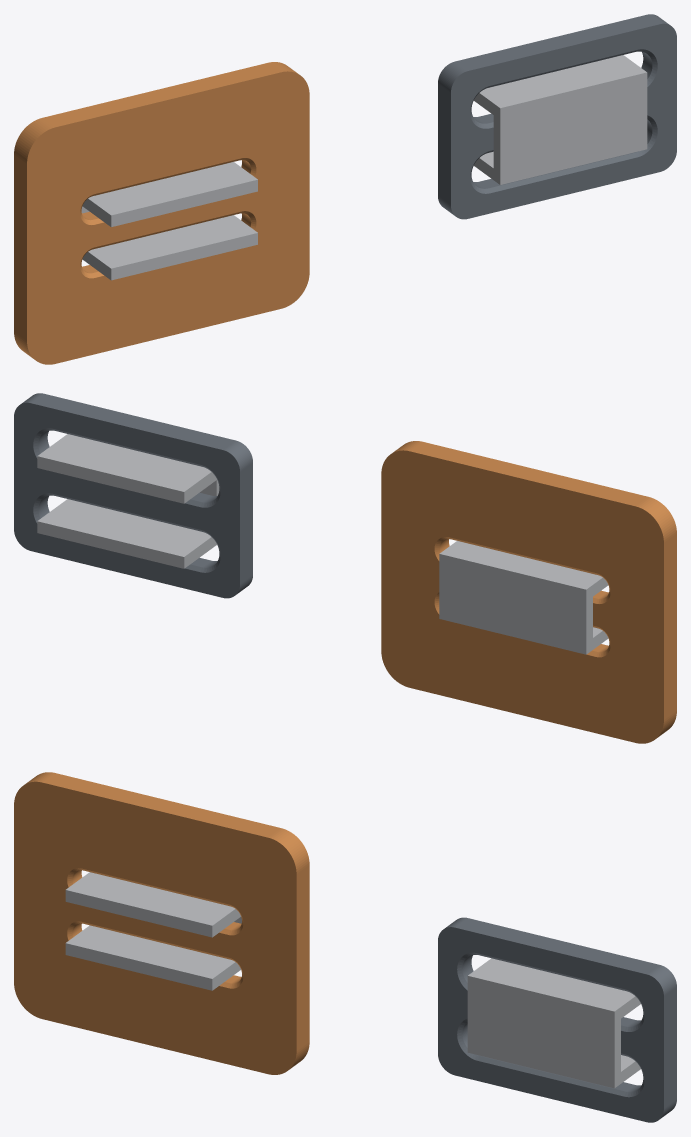
3 views of the same model, one above another, from view 1: azimuth 30°, elevation 25°; view 2: azimuth 150°, elevation 25°; view 3: azimuth 330°, elevation 25° (orthographic).
Parts seen in each view (by area): view 1: plaque, boucle, sangle_boucle, sangle_plaque; view 2: plaque, boucle, sangle_boucle, sangle_plaque; view 3: plaque, boucle, sangle_boucle, sangle_plaque.
Part boxes in pixels (bbox=[...]): plaque: bbox=[14, 62, 309, 364]; boucle: bbox=[438, 14, 676, 219]; sangle_boucle: bbox=[474, 55, 647, 184]; sangle_plaque: bbox=[81, 162, 257, 280]; plaque: bbox=[381, 441, 676, 743]; boucle: bbox=[14, 393, 252, 598]; sangle_boucle: bbox=[37, 434, 219, 568]; sangle_plaque: bbox=[439, 541, 608, 654]; plaque: bbox=[14, 772, 309, 1074]; boucle: bbox=[438, 917, 676, 1122]; sangle_boucle: bbox=[467, 958, 640, 1088]; sangle_plaque: bbox=[65, 872, 241, 990].
Bounding box in the file's own units: 115 × 40 × 14.
